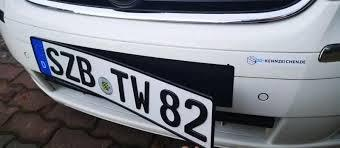license-plates: (31, 38, 211, 148)
